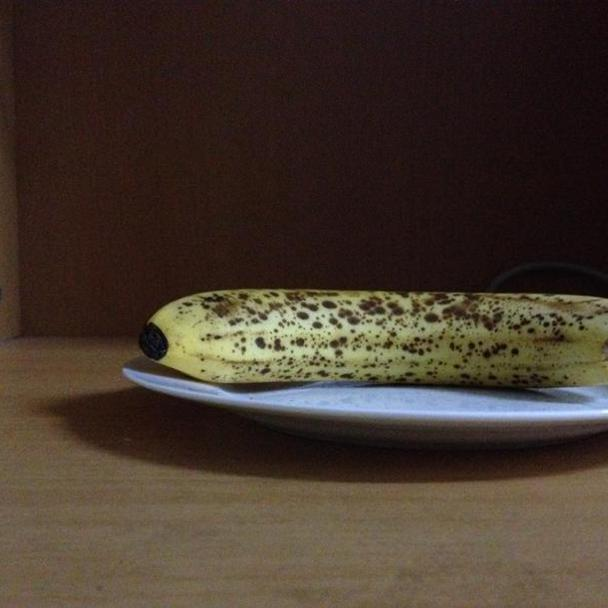banana: (140, 281, 608, 402)
